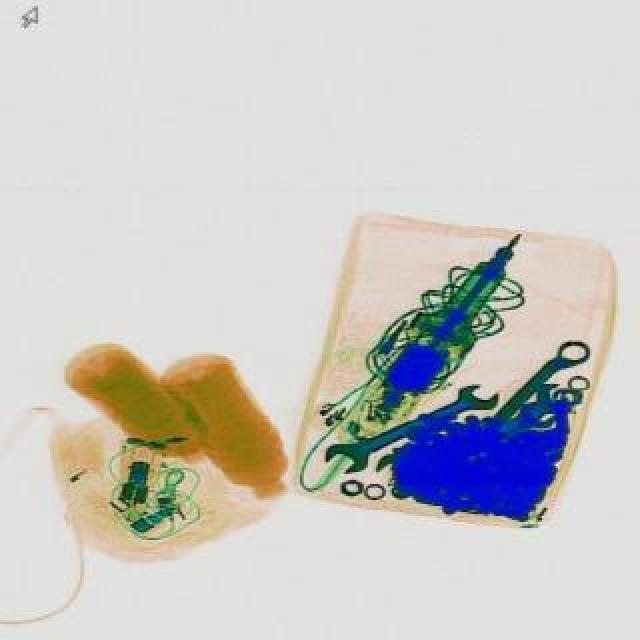scissors: (322, 374, 506, 480), (490, 332, 596, 430), (506, 378, 576, 434), (498, 396, 558, 444)
